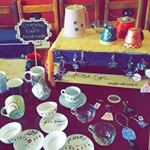cups: (1, 93, 27, 121), (121, 26, 145, 52), (34, 99, 58, 123), (96, 25, 120, 48), (58, 84, 83, 105)
